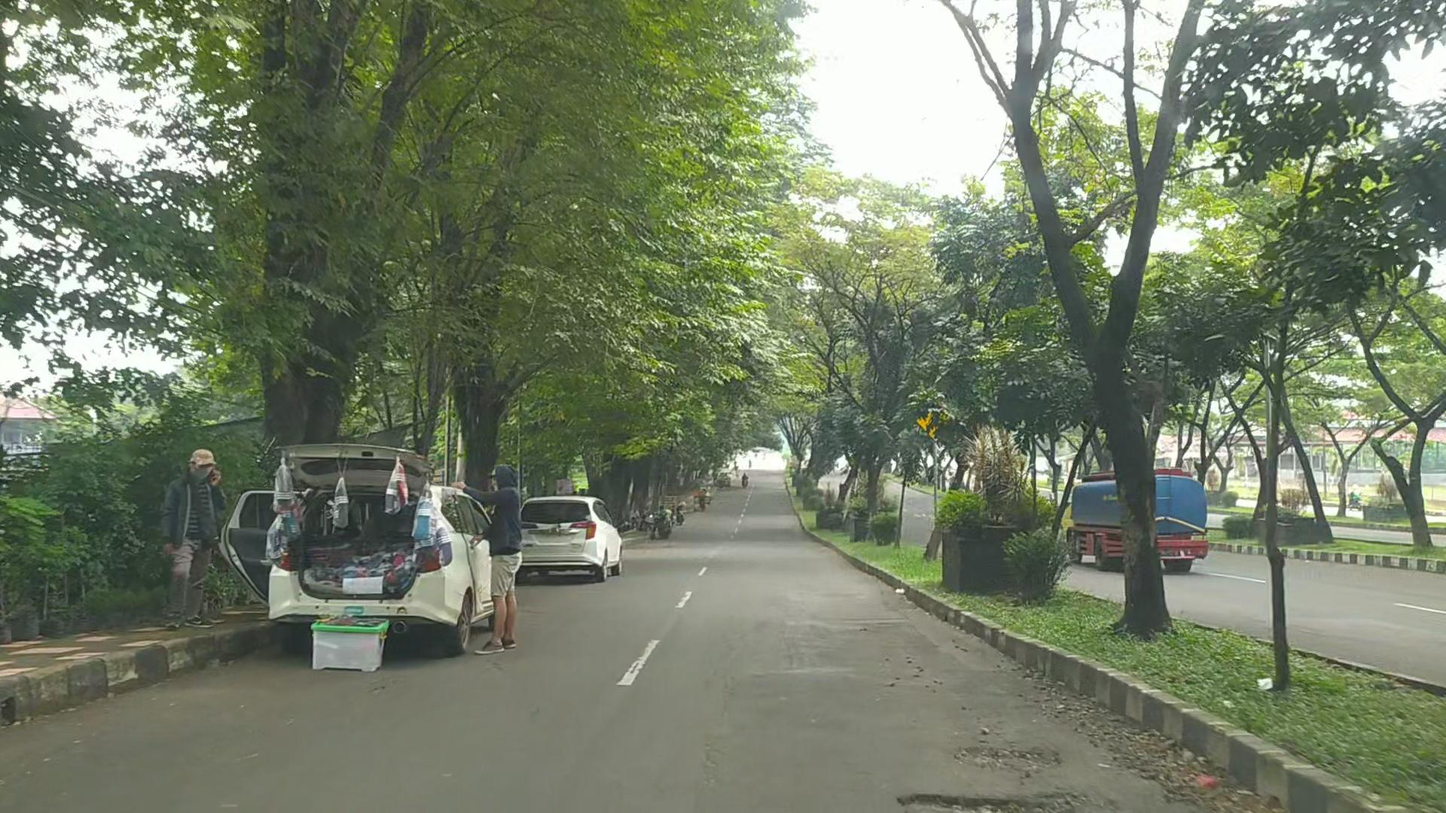pothole: (889, 789, 1065, 811)
